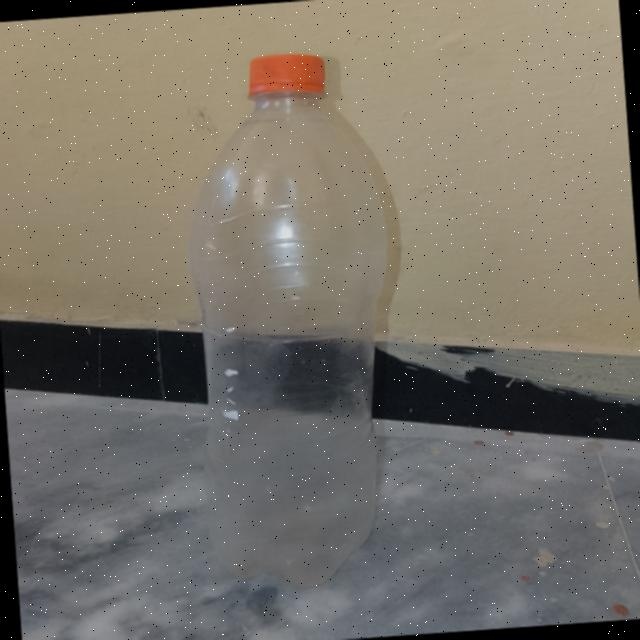bottle: (164, 38, 424, 600)
cap: (238, 44, 342, 106)
